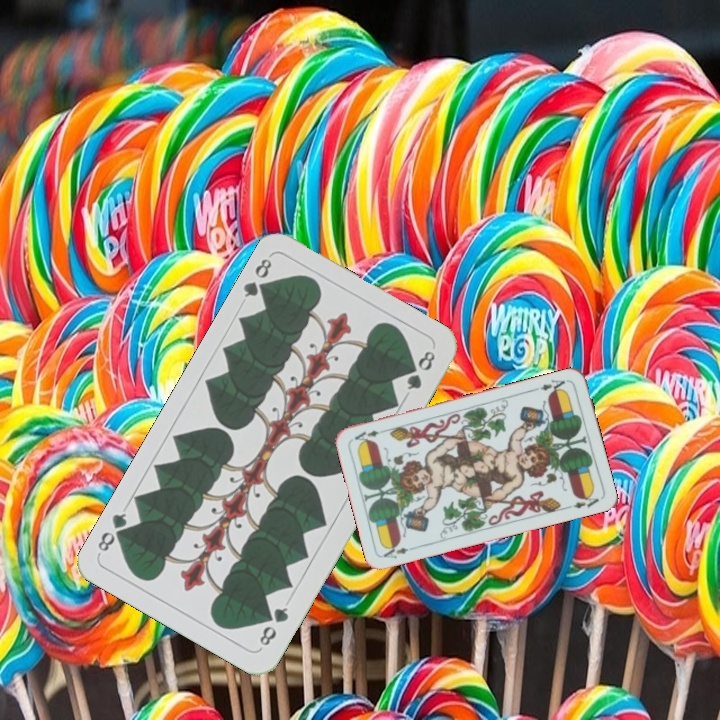EA: (531, 375, 571, 396), (379, 540, 411, 561)
G8: (239, 254, 275, 301), (255, 603, 291, 649)
